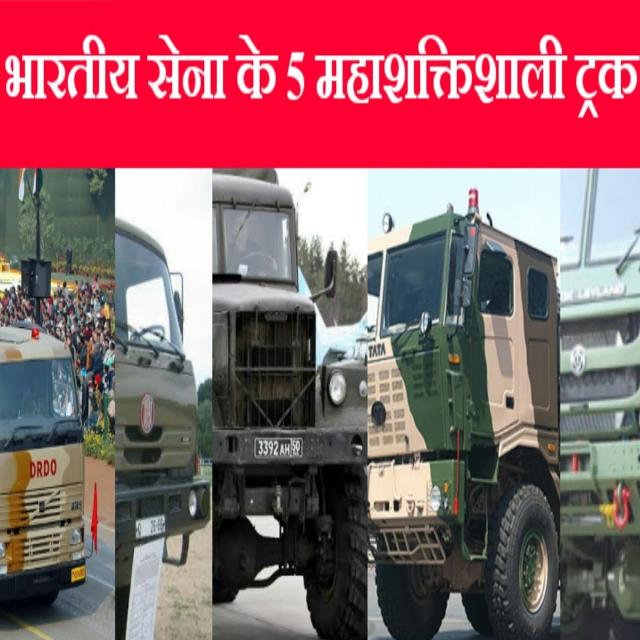truck: (368, 184, 559, 638), (212, 173, 366, 637), (115, 220, 210, 586), (0, 327, 86, 604)
